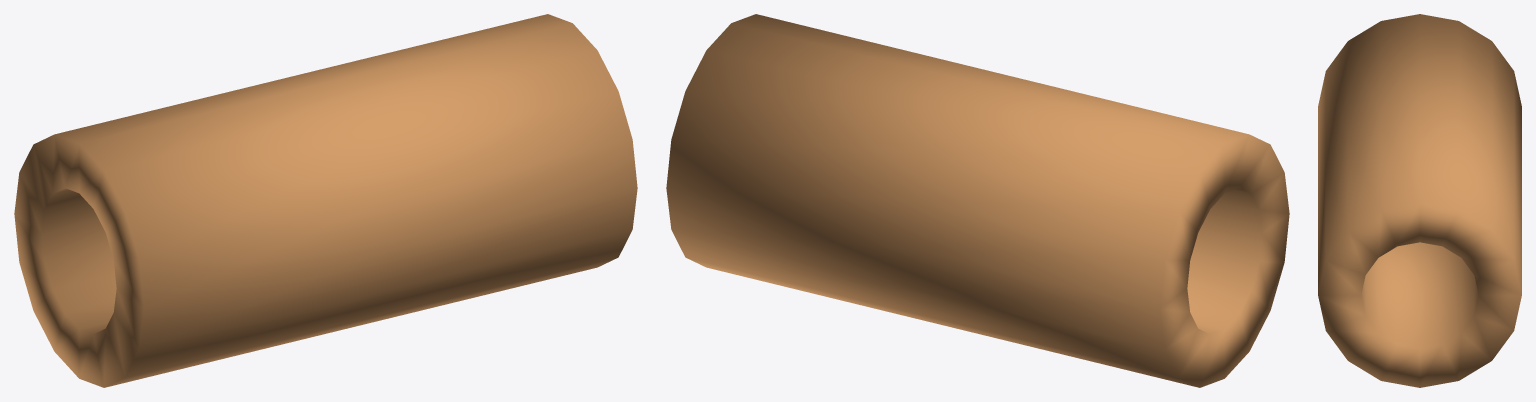
File: Props_TissueToilet_02.fbx
The picture shows the model from 3 angles, left to right: view 1: azimuth 30°, elevation 25°; view 2: azimuth 150°, elevation 25°; view 3: azimuth 270°, elevation 25°; orthographic projection. The views are drawn at different scales.
Parts seen in each view (by area): view 1: Props_TissueToilet_02; view 2: Props_TissueToilet_02; view 3: Props_TissueToilet_02.
Part boxes in pixels (x1,y1,x2,y2): Props_TissueToilet_02: (14, 14, 637, 387); Props_TissueToilet_02: (666, 14, 1289, 387); Props_TissueToilet_02: (1318, 14, 1521, 387).
Size of the model in its own units: 165 by 75.05 by 75.05.
